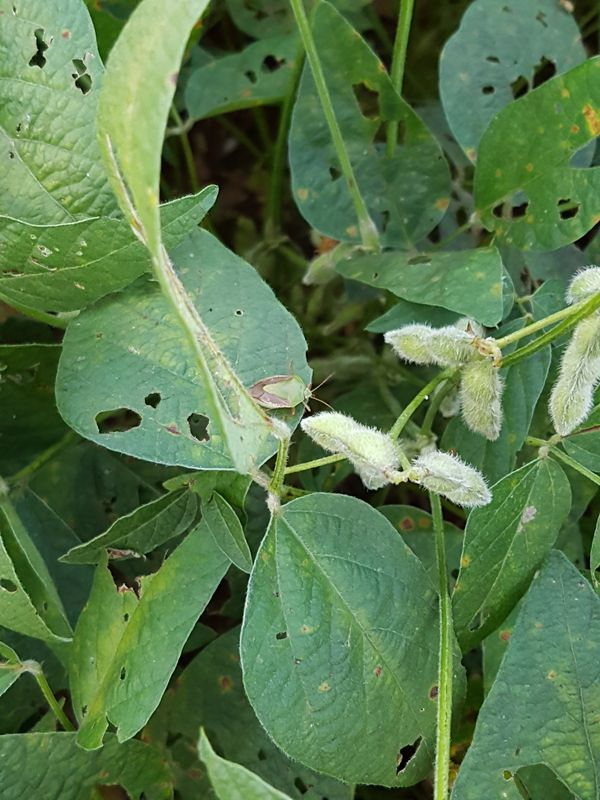Edessa_meditabunda: (236, 358, 344, 434)
